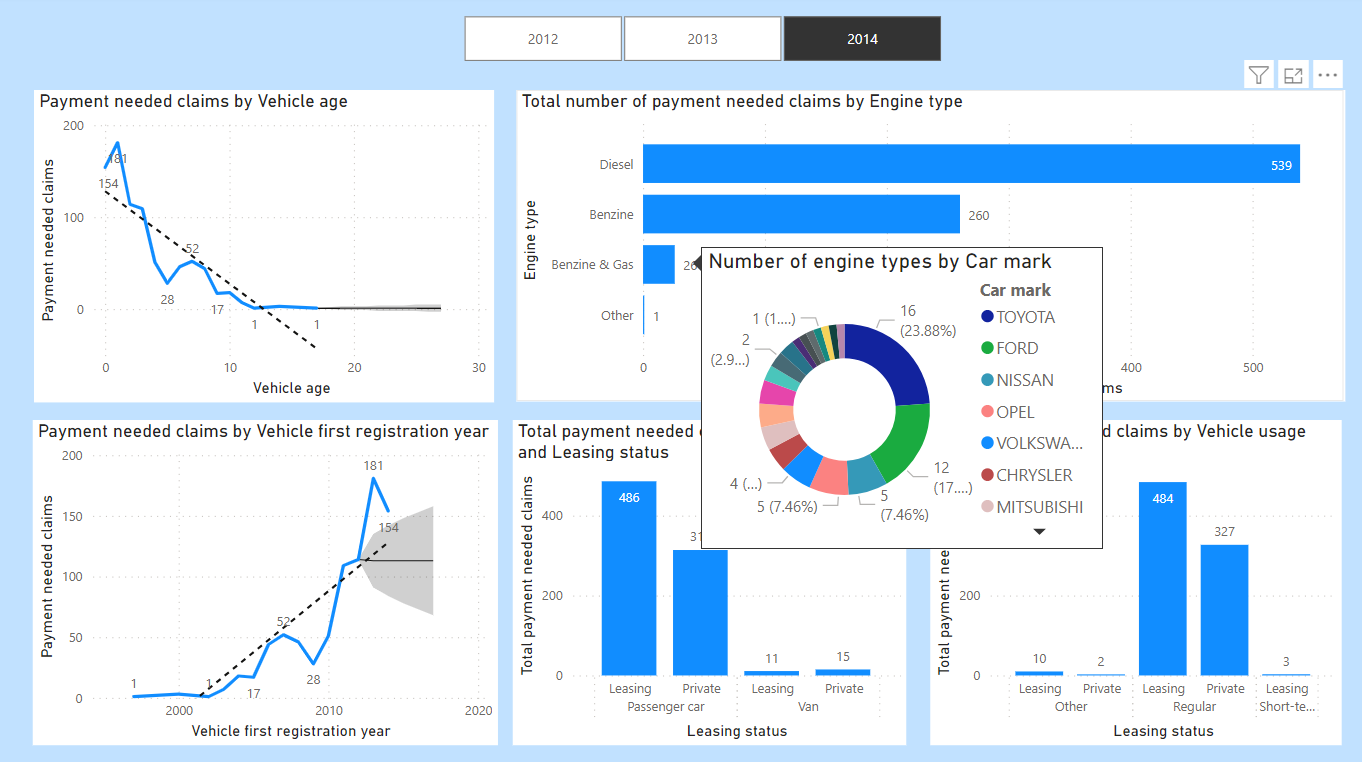

This screenshot's page, from the dashboard's own definition file:
{"tool":"powerbi","page":{"name":"Trends in claims","canvas":[1280,720],"ordinal":2},"visuals":[{"type":"lineChart","fields":{"Y":["calculations.TotalNonZeroPayments"],"Category":["policies.VehicleFirstRegistrationYear"]},"box":[32.1,398,435.7,304.4],"z":0},{"type":"lineChart","fields":{"Y":["calculations.TotalNonZeroPayments"],"Category":["policies.VehicleAge"]},"box":[32.5,88.8,431.2,292.5],"z":1000},{"type":"columnChart","fields":{"Category":["policies.VehicleType","policies.LeasingStatus"],"Y":["calculations.TotalNonZeroPayments"]},"box":[481.8,398,368.7,304.4],"z":2000},{"type":"columnChart","fields":{"Y":["calculations.TotalNonZeroPayments"],"Category":["policies.VehicleUsage","policies.LeasingStatus"]},"box":[872.8,398,385.4,304.4],"z":3000},{"type":"clusteredBarChart","fields":{"Y":["calculations.TotalNonZeroPayments"],"Category":["policies.EngineType"]},"box":[484.6,89.4,776.4,291.9],"z":4000},{"type":"slicer","fields":{"Values":["policies.year"]},"box":[410.6,12.6,497.1,55.9],"z":5000}]}

Visuals, with their boxes in screenshot pixels (x1, y1, x2, y2), scaled from the page's 1280x720 canvas onto the 1362x762 screenshot:
lineChart - calculations.TotalNonZeroPayments x policies.VehicleFirstRegistrationYear: <region>34, 421, 498, 743</region>
lineChart - calculations.TotalNonZeroPayments x policies.VehicleAge: <region>35, 94, 493, 404</region>
columnChart - policies.VehicleType x policies.LeasingStatus: <region>513, 421, 905, 743</region>
columnChart - calculations.TotalNonZeroPayments x policies.VehicleUsage: <region>929, 421, 1339, 743</region>
clusteredBarChart - calculations.TotalNonZeroPayments x policies.EngineType: <region>516, 95, 1342, 404</region>
slicer - policies.year: <region>437, 13, 966, 72</region>
